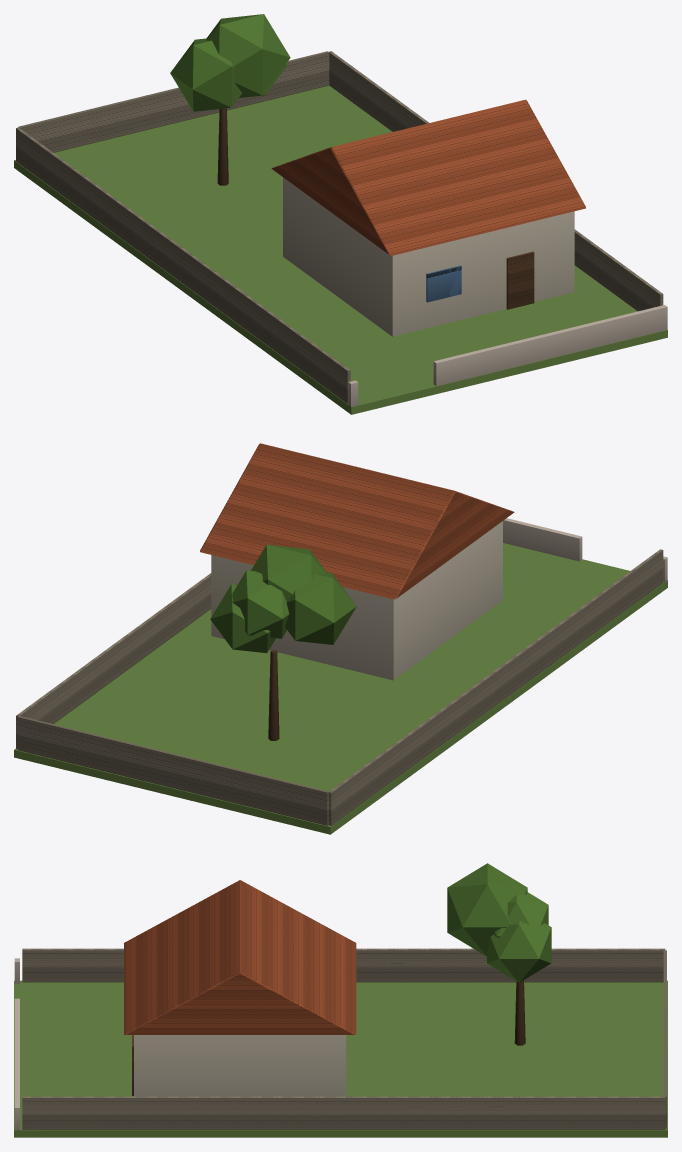
The model's file is casa_3.glb.
3 renders of one model, top to bottom at view 1: azimuth 30°, elevation 25°; view 2: azimuth 150°, elevation 25°; view 3: azimuth 270°, elevation 25°, orthographic. The views are drawn at different scales.
Visible parts, largest first — view 1: casa_3_liso, casa_3; view 2: casa_3_liso, casa_3; view 3: casa_3_liso, casa_3.
Boxes of the visible parts, box(x1,y1,x2,y2) form: casa_3_liso: box(14, 14, 667, 414); casa_3: box(16, 51, 663, 403); casa_3_liso: box(14, 518, 667, 834); casa_3: box(16, 443, 663, 825); casa_3_liso: box(14, 863, 667, 1137); casa_3: box(22, 880, 666, 1129).
Bounding box in the file's own units: 13 × 7.21 × 24.
3 materials, 2 textured.
